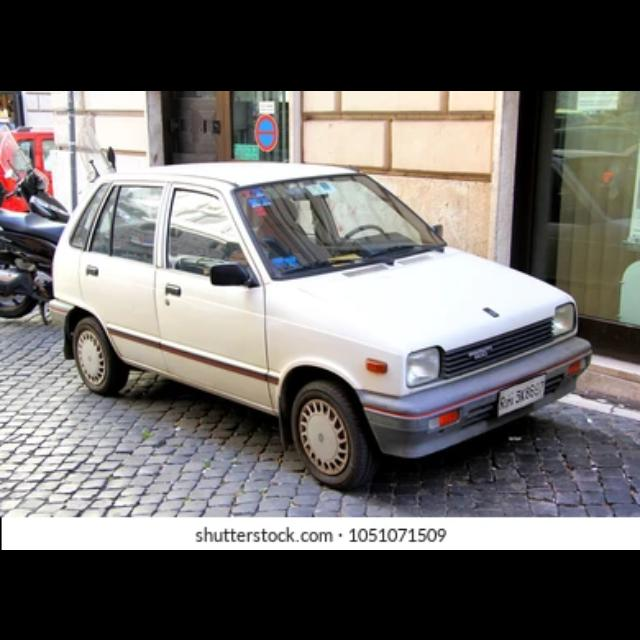vehicles: (47, 165, 593, 489)
